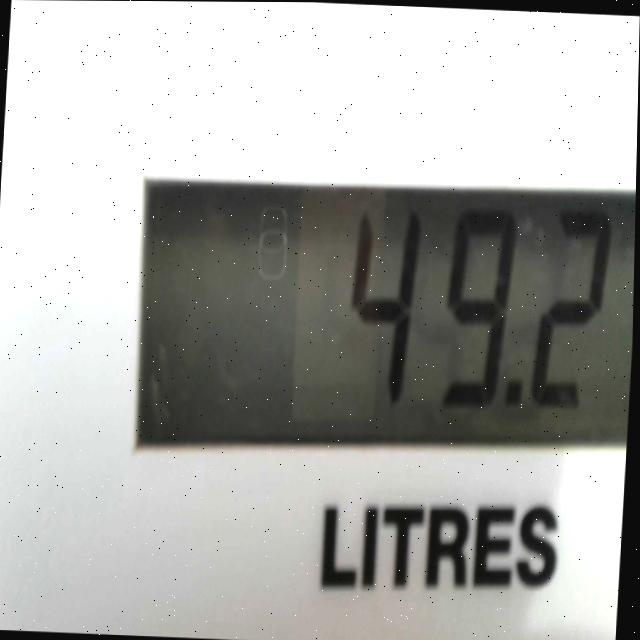.: (500, 369, 522, 427)
2: (530, 195, 621, 469)
4: (333, 196, 422, 416)
9: (431, 211, 518, 432)
